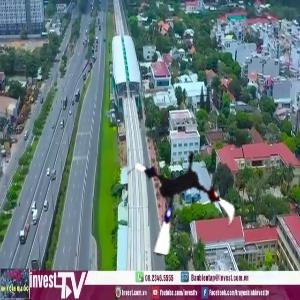drone: (120, 143, 241, 264)
